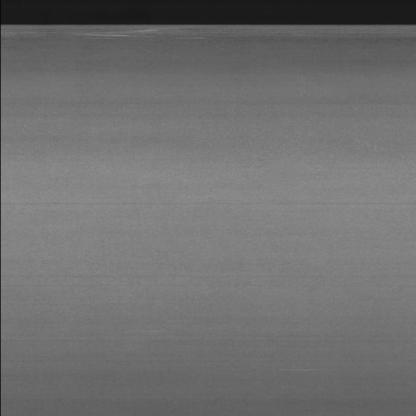silk_spot: (59, 28, 204, 56)
